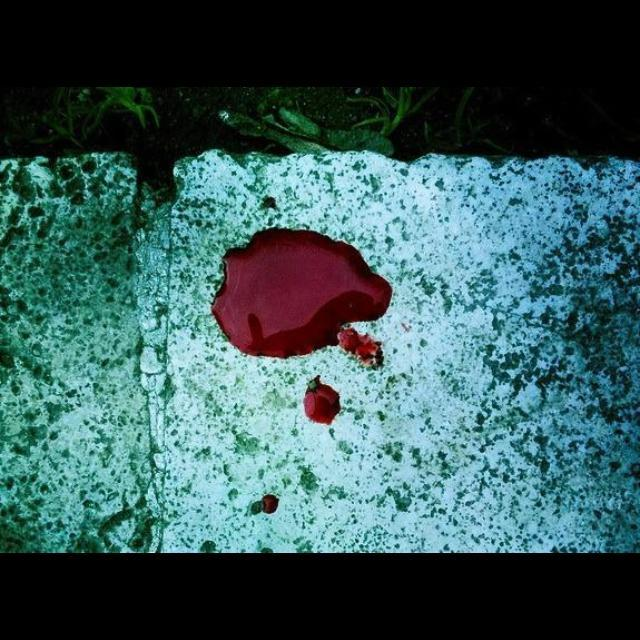blood: (211, 227, 393, 366), (305, 375, 341, 425), (262, 495, 279, 515)
